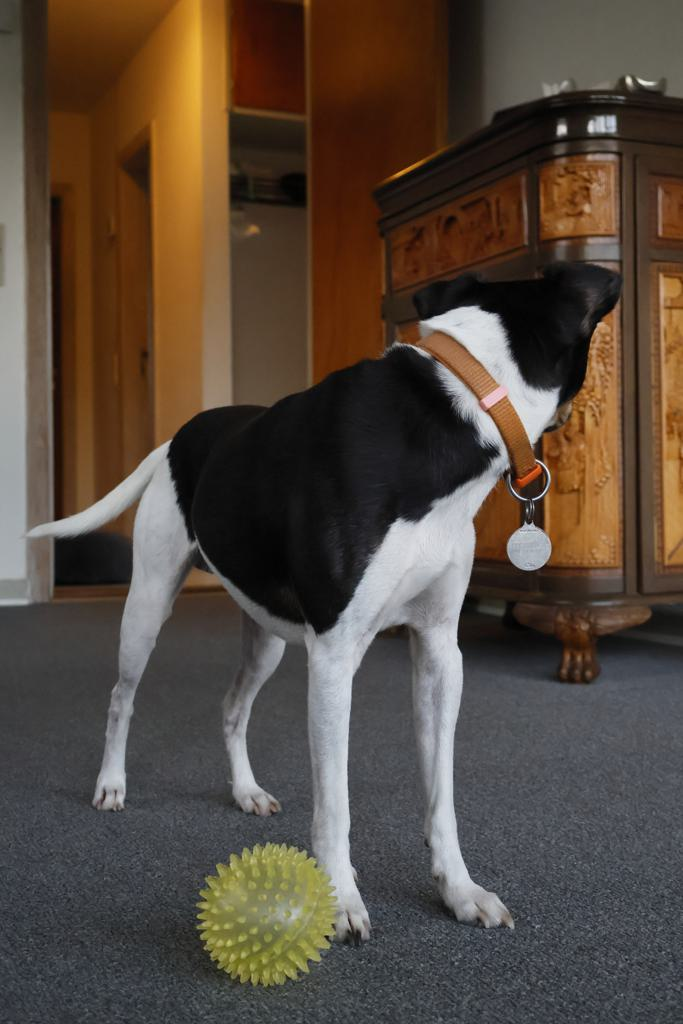Dog: (16, 251, 635, 961)
